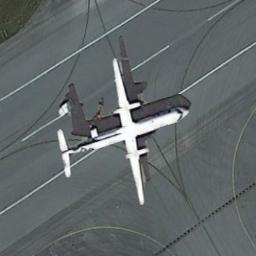Airplane: (55, 34, 191, 205)
